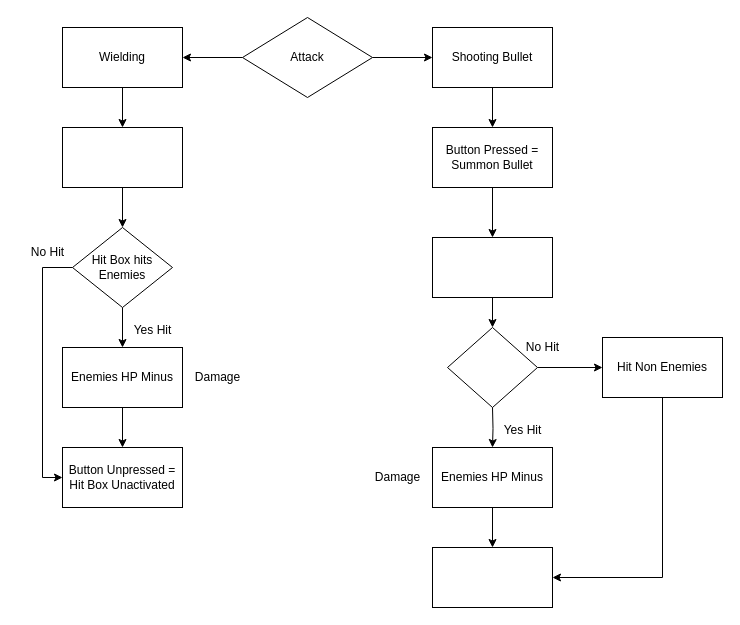
This 740x625 diagram has some shape labels left out. Each missing label, with the box of its shape:
Bullet Dissapearing: (432, 546, 552, 608)
Bullet Hit: (446, 326, 538, 408)
Bullet Moving Forward: (432, 236, 552, 298)
Button Pressed = Active Hit Box: (62, 126, 182, 188)
